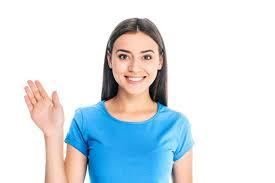person: (97, 15, 177, 107)
